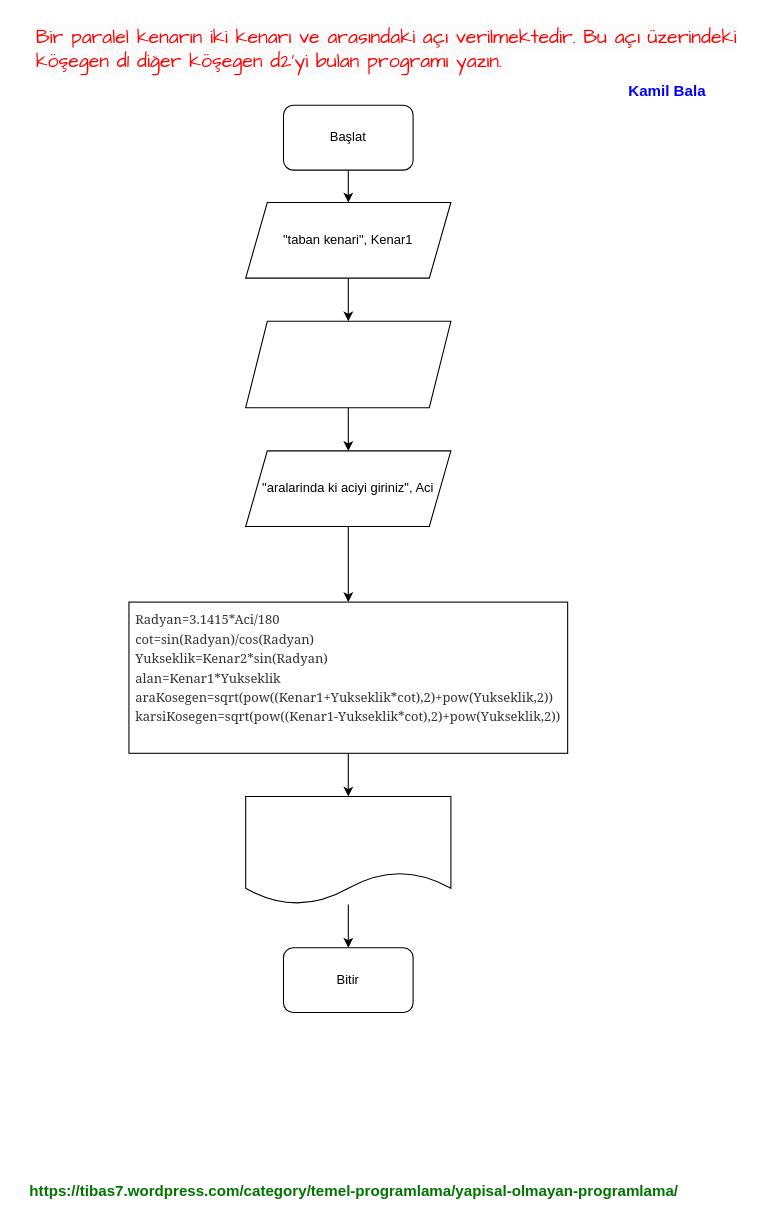
Image size: 760x1225. Some labels were removed from this diagram. The shapes that lost their labels are listed below. From the top down, each one's centre as x and y in pixels, then its label:
point 348,364: "diger giriniz", Kenar2
point 348,850: Yaz,araKosegen,karsiKosegen
